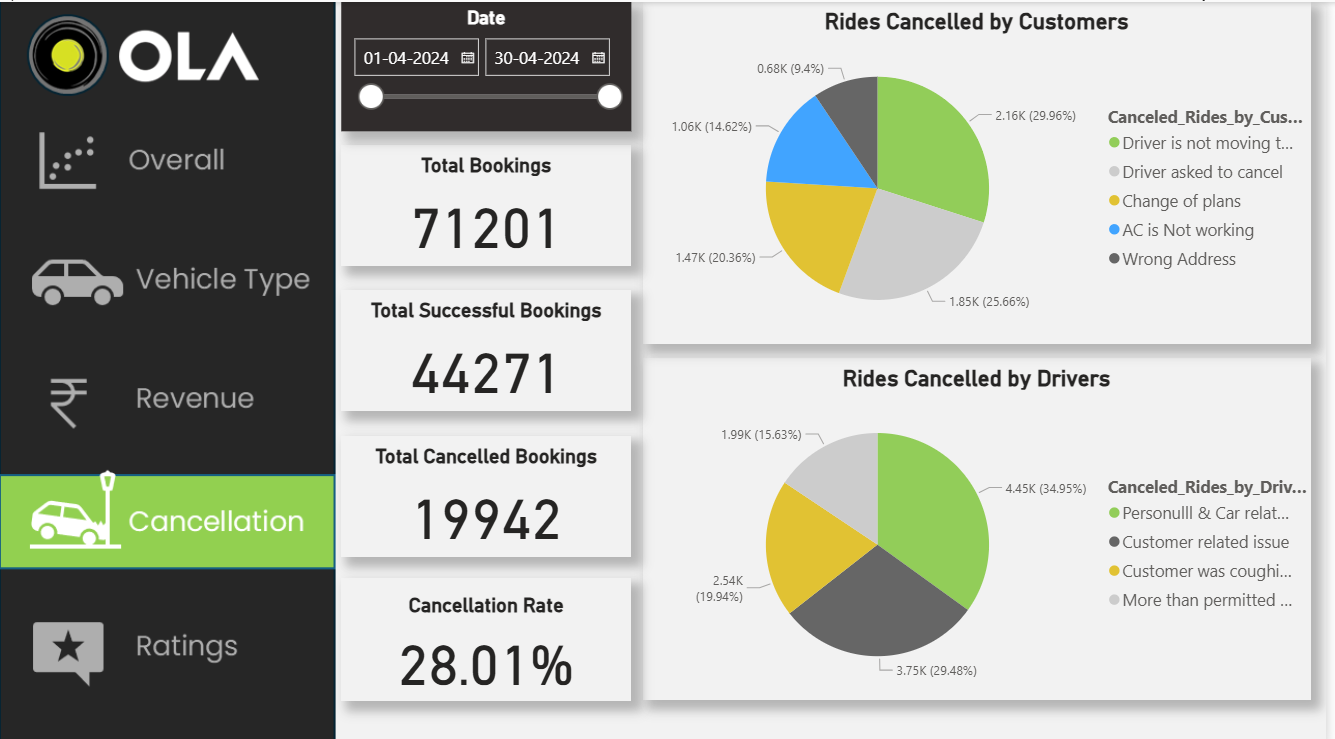

The dashboard page shown, as its layout file describes it:
{"tool":"powerbi","page":{"name":"Cancellation","canvas":[1280,720],"ordinal":3},"visuals":[{"type":"actionButton","box":[0,109.8,319.7,92.9],"z":0},{"type":"actionButton","box":[1.2,226.8,319.7,92.9],"z":1000},{"type":"actionButton","box":[0,336.6,319.7,92.9],"z":2000},{"type":"actionButton","box":[1.2,580.3,319.7,92.9],"z":3000},{"type":"pieChart","title":"Rides Cancelled by Customers","fields":{"Y":["CountNonNull(Bookings.Booking_Status)"],"Category":["Bookings.Canceled_Rides_by_Customer"]},"box":[620.2,0,644.9,329.3],"z":4000},{"type":"pieChart","title":"Rides Cancelled by Drivers","fields":{"Y":["CountNonNull(Bookings.Booking_Status)"],"Category":["Bookings.Canceled_Rides_by_Driver"]},"box":[620.2,344.4,644.9,329.3],"z":5000},{"type":"slicer","title":"Date","fields":{"Values":["Bookings.Date"]},"box":[329.3,0,279.9,124.9],"z":6000},{"type":"card","title":"Total Bookings","fields":{"Values":["Count(Bookings.Booking_ID)"]},"box":[329.3,137.2,279.9,116.6],"z":7000},{"type":"card","title":"Cancellation Rate","fields":{"Values":["Bookings.CanceledBookingsCount"]},"box":[329.3,555.7,279.9,118],"z":8000},{"type":"card","title":"Total Successful Bookings","fields":{"Values":["CountNonNull(Bookings.Booking_Status)"]},"box":[329.3,277.2,279.9,116.6],"z":9000},{"type":"card","title":"Total Cancelled Bookings","fields":{"Values":["CountNonNull(Bookings.Booking_Status)"]},"box":[329.3,418.5,279.9,116.6],"z":10000}]}

Visuals, with their boxes in screenshot pixels (x1, y1, x2, y2), scaled from the page's 1280x720 canvas onto the 1335x739 screenshot:
actionButton: <box>0,113,333,208</box>
actionButton: <box>1,233,335,328</box>
actionButton: <box>0,345,333,441</box>
actionButton: <box>1,596,335,691</box>
"Rides Cancelled by Customers" pieChart: <box>647,0,1319,338</box>
"Rides Cancelled by Drivers" pieChart: <box>647,353,1319,691</box>
"Date" slicer: <box>343,0,635,128</box>
"Total Bookings" card: <box>343,141,635,260</box>
"Cancellation Rate" card: <box>343,570,635,691</box>
"Total Successful Bookings" card: <box>343,285,635,404</box>
"Total Cancelled Bookings" card: <box>343,430,635,549</box>
